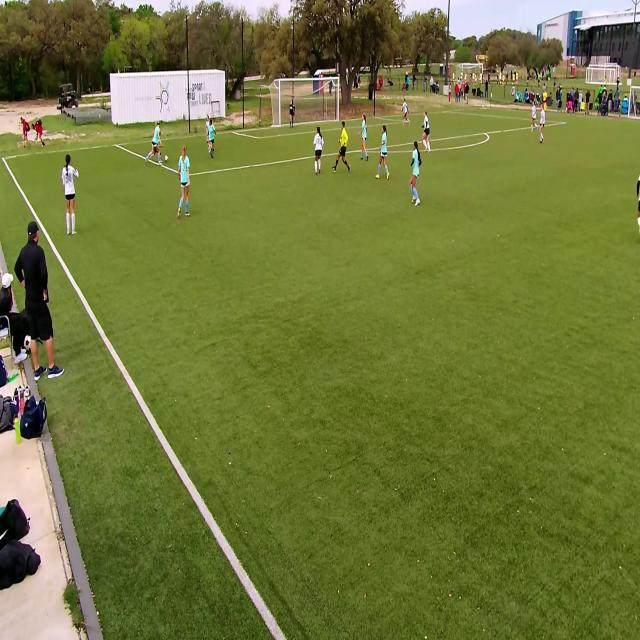ball: (164, 153, 169, 162)
team1: (408, 136, 424, 209), (180, 150, 195, 220), (378, 126, 392, 182), (150, 121, 164, 164), (208, 120, 218, 162)
team2: (60, 154, 81, 237), (313, 127, 326, 178), (361, 114, 371, 159), (421, 110, 431, 154), (539, 104, 548, 146), (402, 98, 412, 128), (530, 103, 536, 135), (205, 114, 209, 131)
